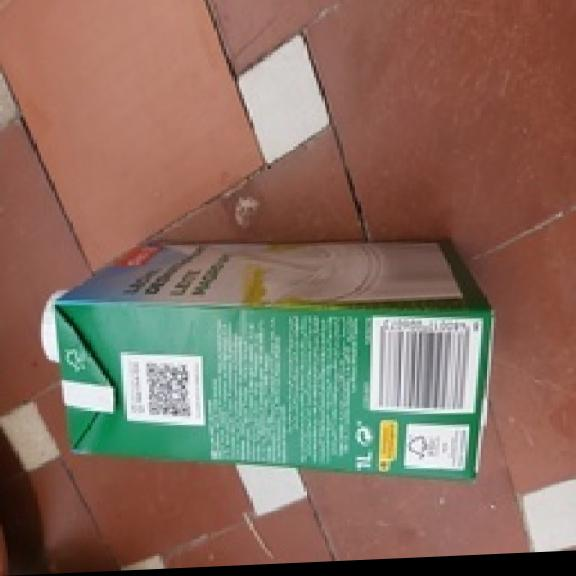Kertas: (57, 242, 493, 478)
